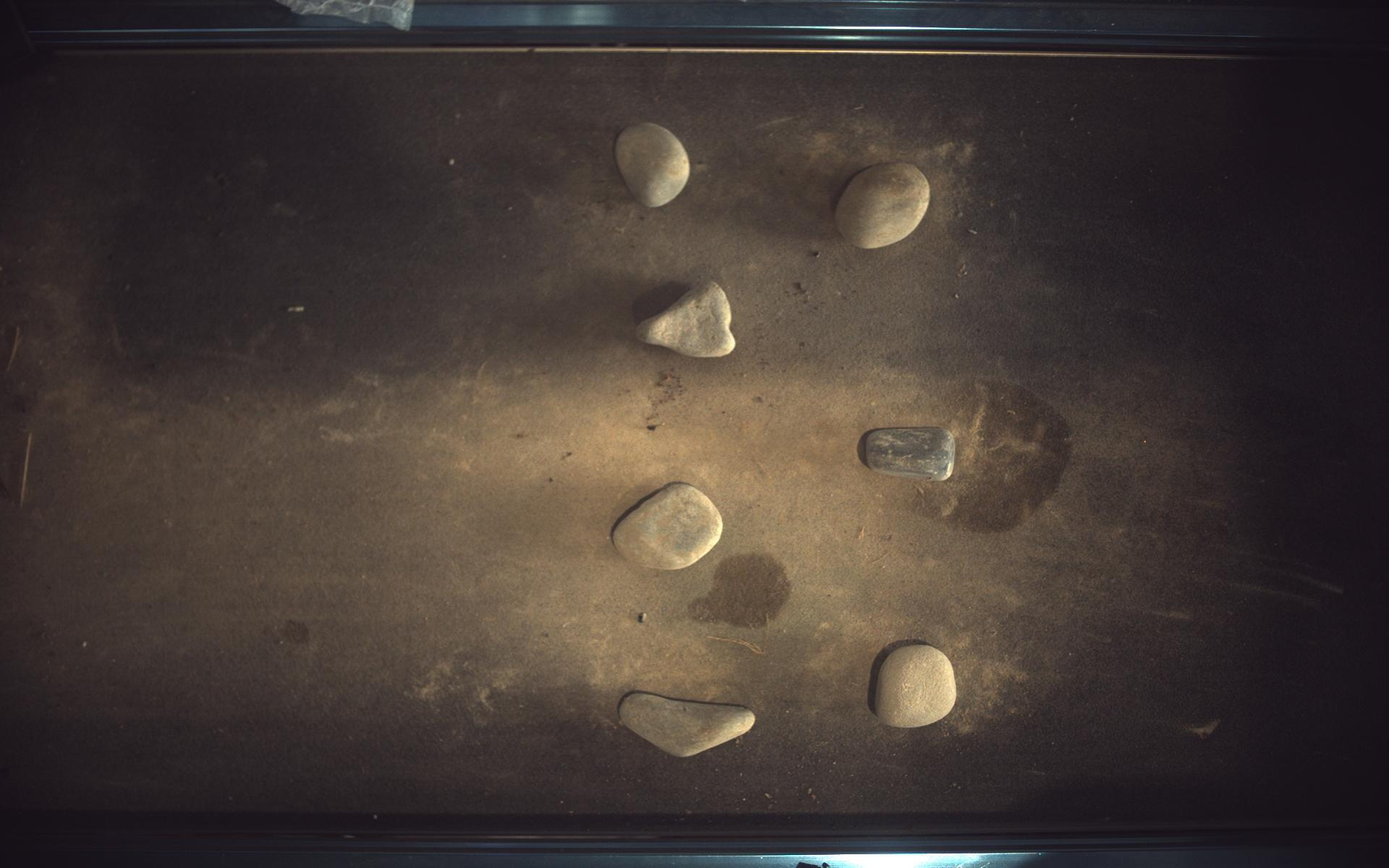stone: (613, 482, 724, 571), (620, 692, 755, 759), (837, 162, 932, 248), (637, 281, 736, 357), (876, 645, 959, 729), (616, 122, 691, 207), (865, 427, 958, 481)
